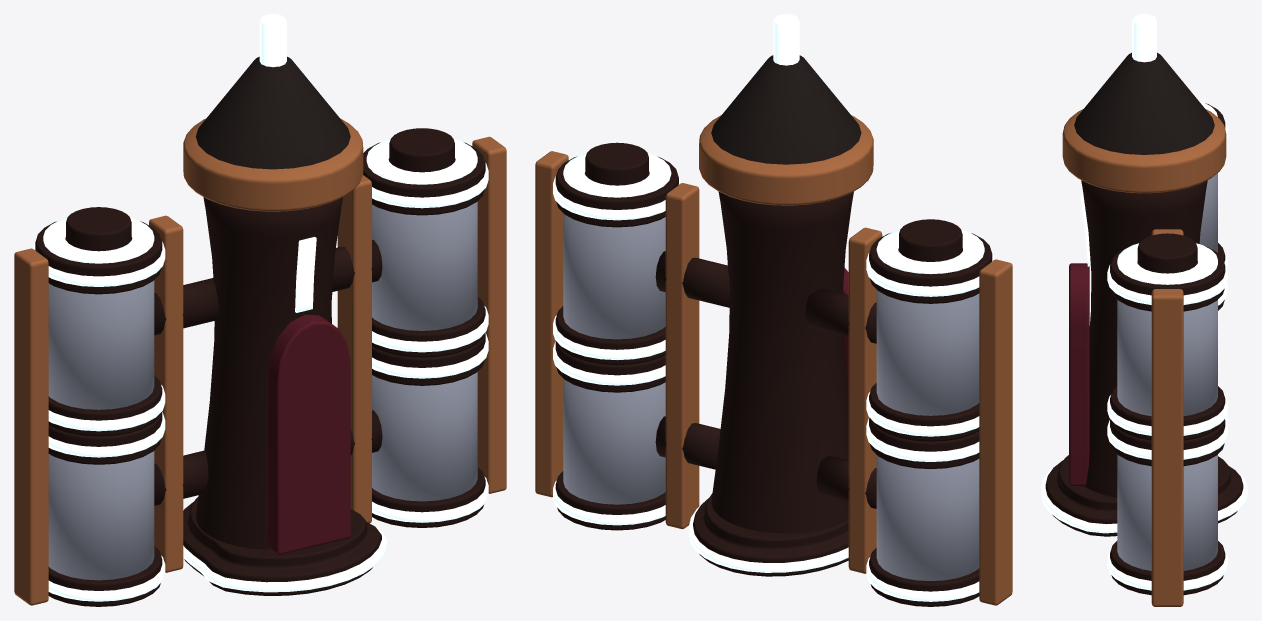
The model's file is Vat_T3.glb.
3 views of the same model, side by side, from view 1: azimuth 30°, elevation 25°; view 2: azimuth 150°, elevation 25°; view 3: azimuth 270°, elevation 25° (orthographic). The views are drawn at different scales.
Parts seen in each view (by area): view 1: H_TankGoo.002, H_TankPosts.002, H_Spire.002, H_TankCaps.002, H_DoorArch.002, H_TankNeon.002, H_Roof.002, H_Capital.002, H_Plinth.002, H_TankPipes.002, H_PlinthNeon.002, H_Tip.002 (+1 smaller); view 2: H_TankGoo.002, H_TankPosts.002, H_Spire.002, H_TankCaps.002, H_TankNeon.002, H_Roof.002, H_Capital.002, H_TankPipes.002, H_Plinth.002, H_PlinthNeon.002, H_Tip.002; view 3: H_TankGoo.002, H_Spire.002, H_TankPosts.002, H_Roof.002, H_TankCaps.002, H_Capital.002, H_TankNeon.002, H_DoorArch.002, H_Plinth.002, H_PlinthNeon.002, H_Tip.002, H_SpireNeon.002.
Boxes of the visible parts, x1,y1,x2,y2 form: H_TankGoo.002: (48, 201, 477, 580); H_TankPosts.002: (14, 136, 506, 605); H_Spire.002: (196, 197, 342, 549); H_TankCaps.002: (35, 128, 485, 606); H_DoorArch.002: (267, 314, 350, 554); H_TankNeon.002: (32, 138, 488, 601); H_Roof.002: (195, 56, 350, 169); H_Capital.002: (183, 118, 363, 211); H_Plinth.002: (183, 497, 381, 595); H_TankPipes.002: (154, 240, 382, 505); H_PlinthNeon.002: (183, 506, 386, 592); H_Tip.002: (259, 14, 286, 67); H_TankGoo.002: (563, 213, 979, 580); H_TankPosts.002: (535, 151, 1012, 605); H_Spire.002: (711, 191, 853, 533); H_TankCaps.002: (555, 142, 992, 606); H_TankNeon.002: (553, 153, 994, 601); H_Roof.002: (711, 55, 861, 164); H_Capital.002: (699, 115, 873, 205); H_TankPipes.002: (655, 251, 876, 508); H_Plinth.002: (693, 493, 848, 576); H_PlinthNeon.002: (689, 505, 848, 572); H_Tip.002: (773, 14, 799, 65); H_TankGoo.002: (1117, 173, 1217, 570); H_Spire.002: (1081, 180, 1207, 497); H_TankPosts.002: (1151, 229, 1183, 606); H_Roof.002: (1074, 52, 1214, 154); H_TankCaps.002: (1110, 103, 1225, 595); H_Capital.002: (1062, 109, 1226, 193); H_TankNeon.002: (1107, 101, 1227, 590); H_DoorArch.002: (1069, 263, 1089, 485); H_Plinth.002: (1045, 455, 1243, 536); H_PlinthNeon.002: (1041, 463, 1247, 533); H_Tip.002: (1132, 14, 1156, 62); H_SpireNeon.002: (1080, 192, 1090, 266).
Size of the model in its own units: 6.89 by 7.35 by 2.85.
